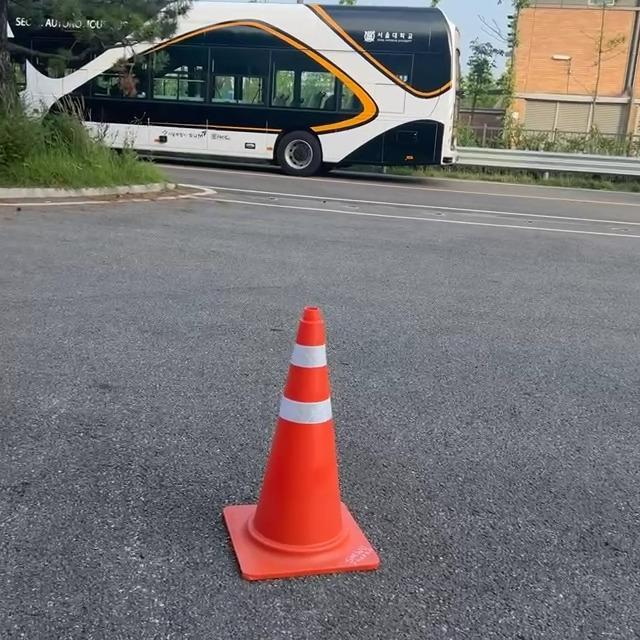fallen_object: (183, 249, 434, 640)
